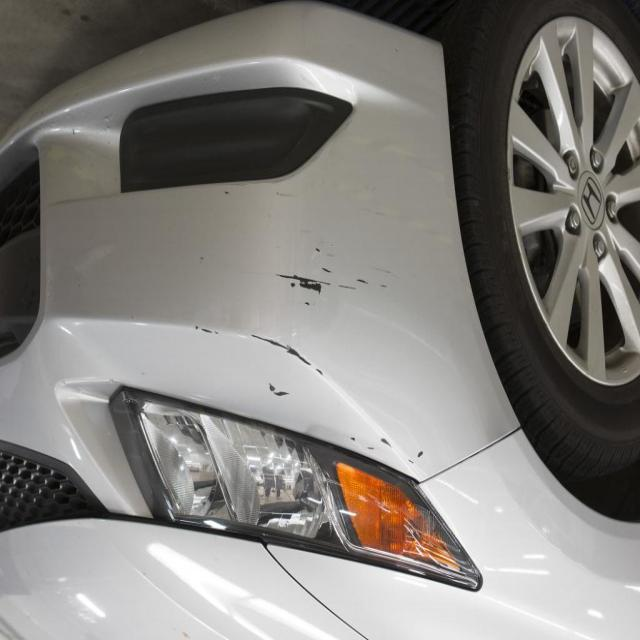scratch: (199, 240, 384, 436)
